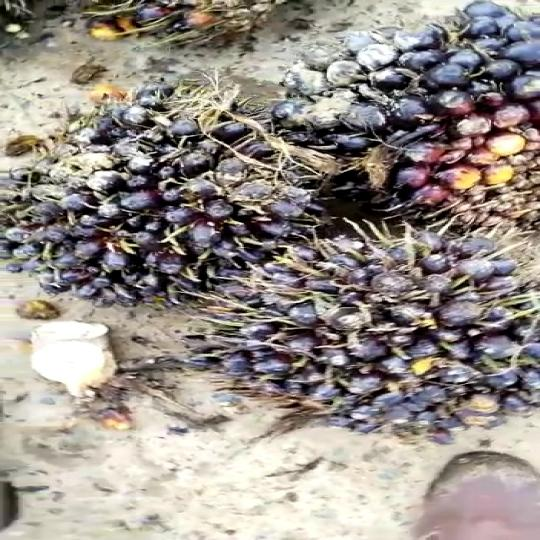mentah: (13, 77, 324, 295), (202, 233, 540, 422), (273, 15, 540, 219)
